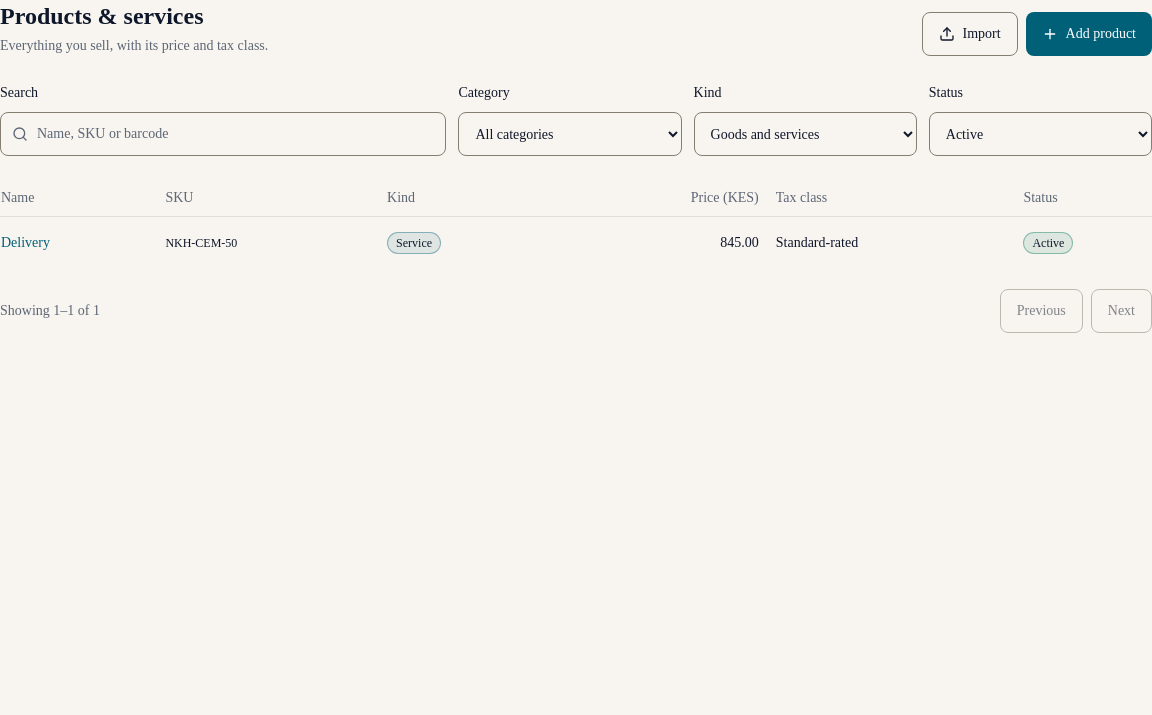
the reorder policy › a service has no reorder level
This screenshot has width=1152, height=715.
What coordinates should you click on to do the following:
click the button "Delivery"
I would click on:
 (26, 243)
Its box is [1,221,50,265].
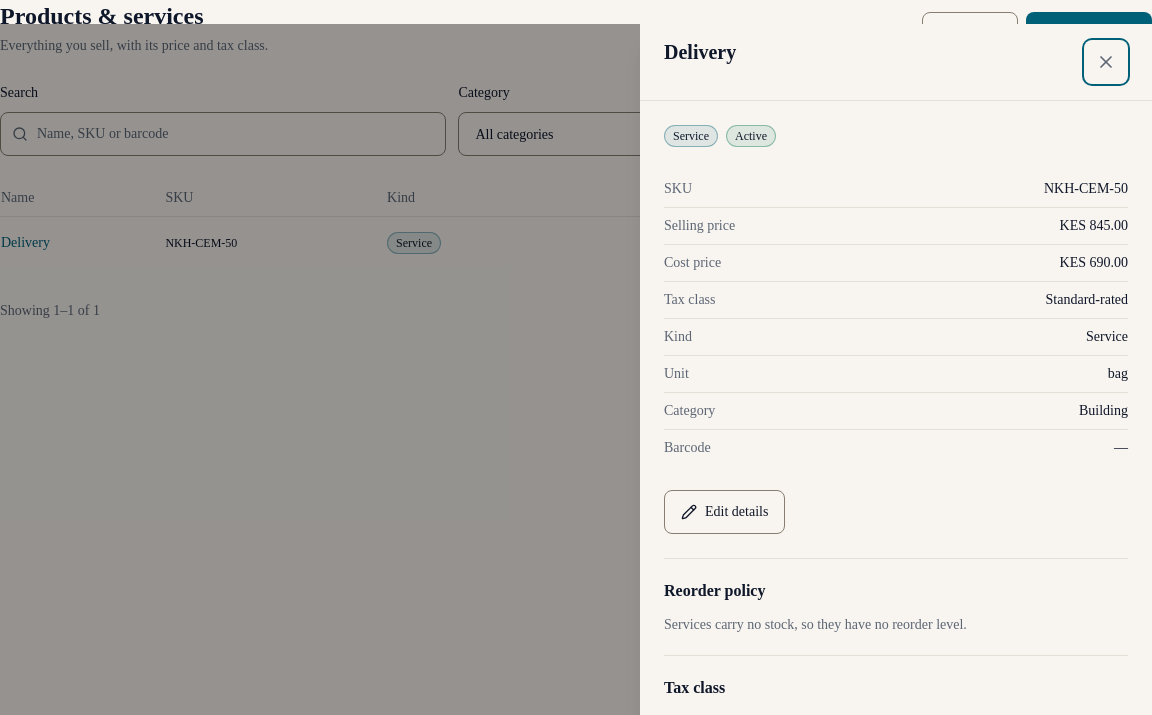
Now the text "Services carry no stock, so they have no reorder level." is shown, box [664,617,967,632]
